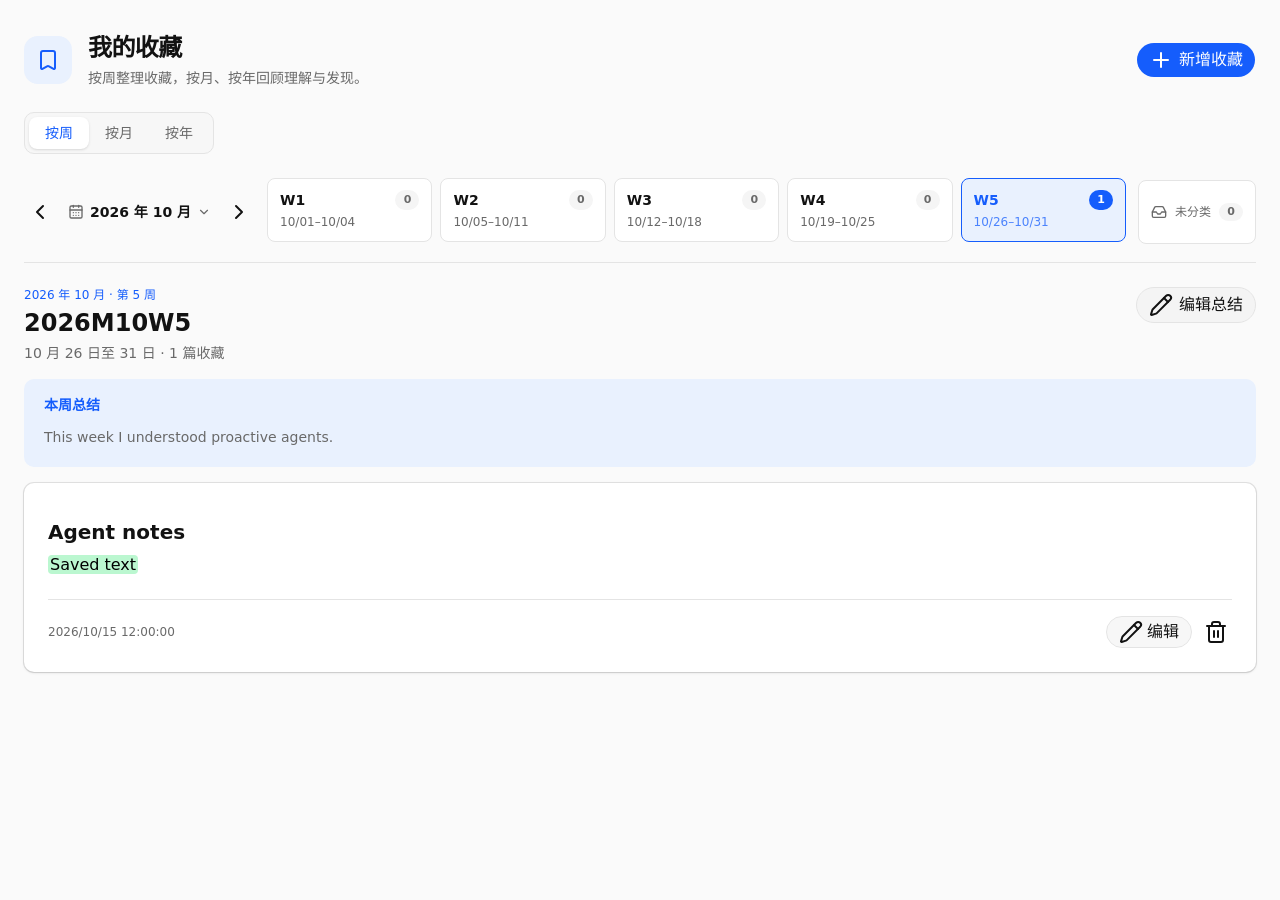
weekly collections › keeps the destination year visible when a deletion from the old view finishes
Expected: the heading "Agent notes" is shown, [48,520,185,544]
Click the button named "删除收藏" at (1216, 632), box [1200,616,1232,648]
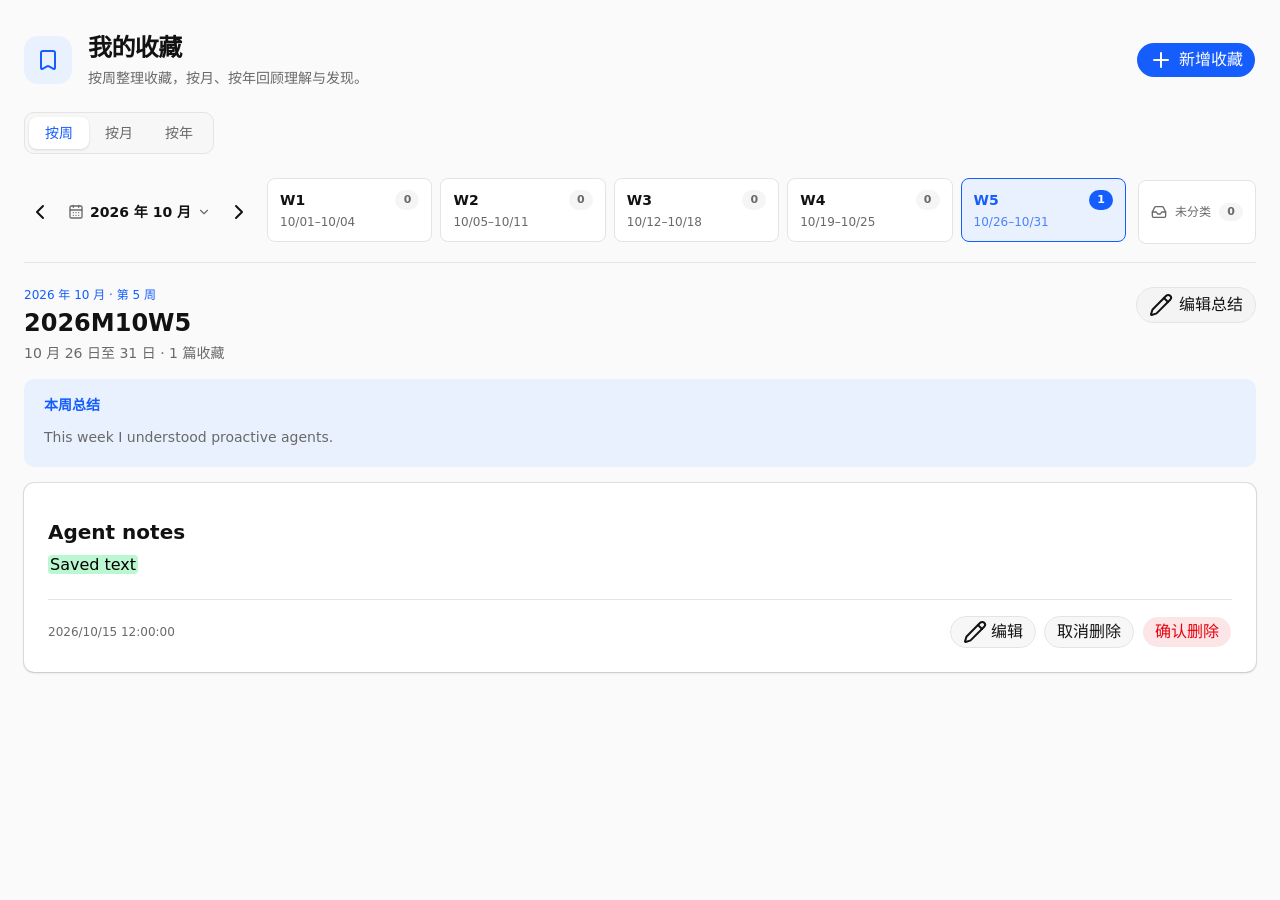
Click the button "确认删除" at (1187, 632), box [1142,616,1232,648]
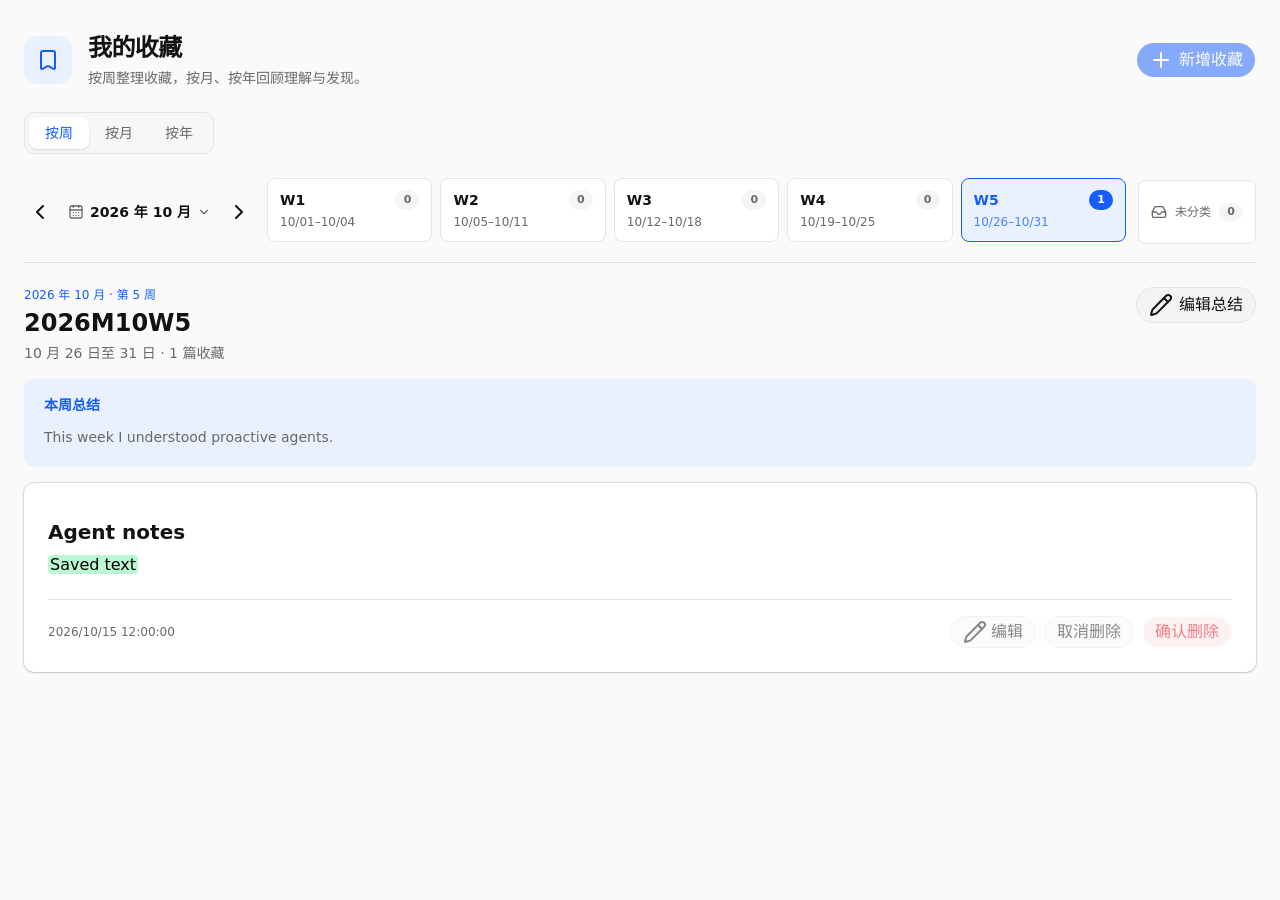
Click the button "按年" at (179, 133), box [149,117,209,149]
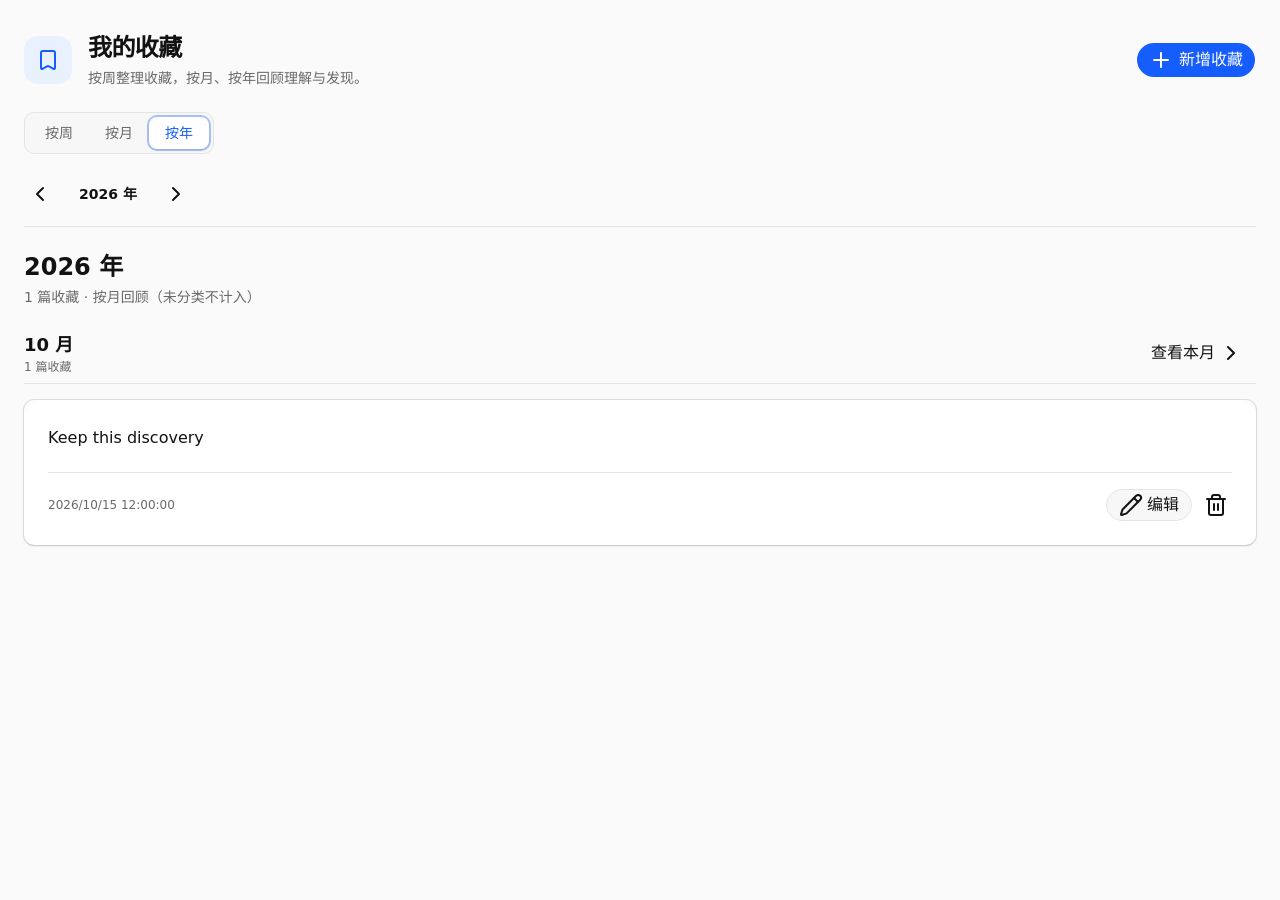
Result: the text "Keep this discovery" is shown at [48,428,204,447]
